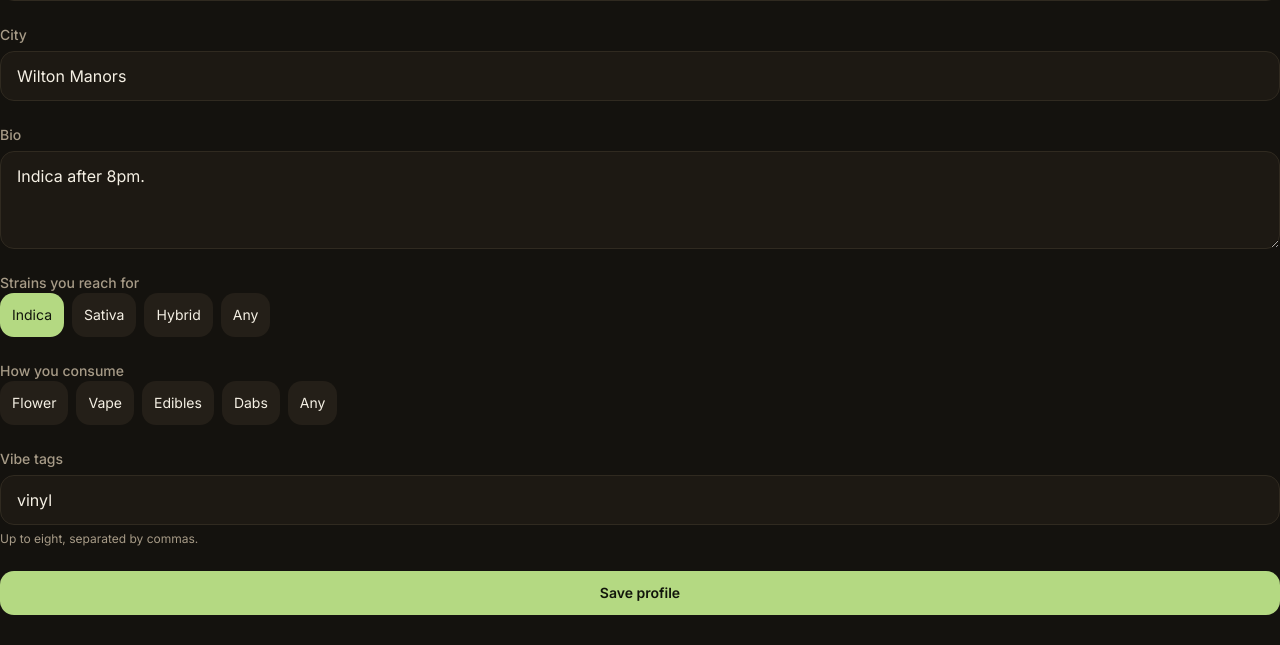
Test: EditProfileForm (issue #65) › shows the shared banner once it saves
Click the button "Save profile": (640, 593) x1=0 y1=571 x2=1279 y2=615
(page scrolled)
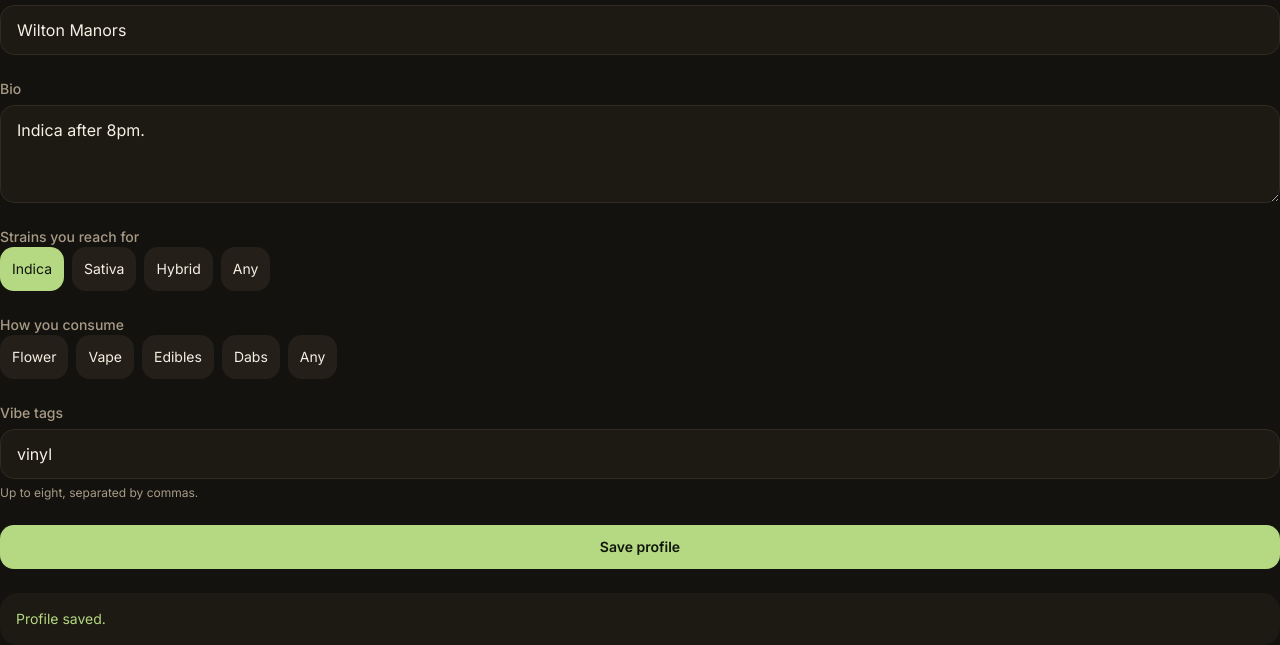
Check: the message reads "Profile saved.", box x1=16 y1=610 x2=106 y2=627
